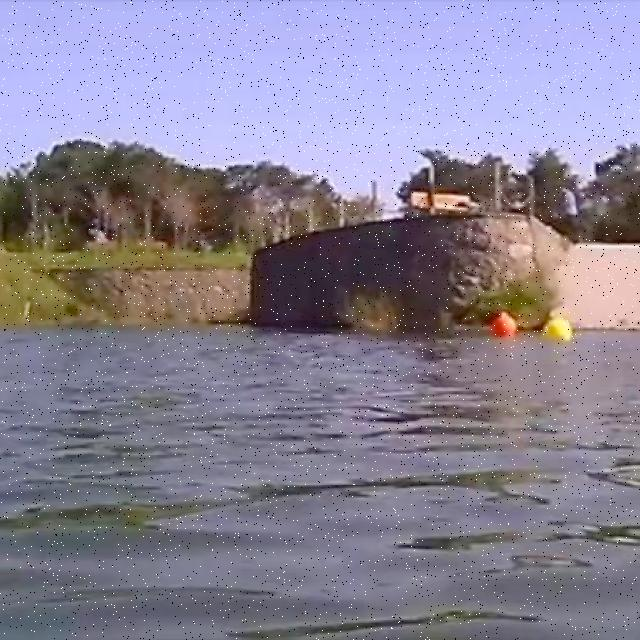buoy: (543, 315, 573, 342), (493, 312, 517, 335)
